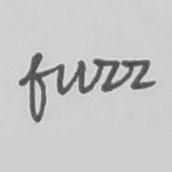f: (24, 49, 49, 125)
u: (53, 58, 88, 96)
z: (121, 55, 159, 93), (91, 56, 120, 93)
